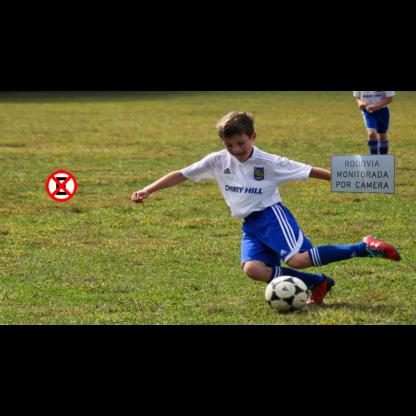I-E: (330, 153, 395, 194)
R-6c: (46, 170, 77, 202)
